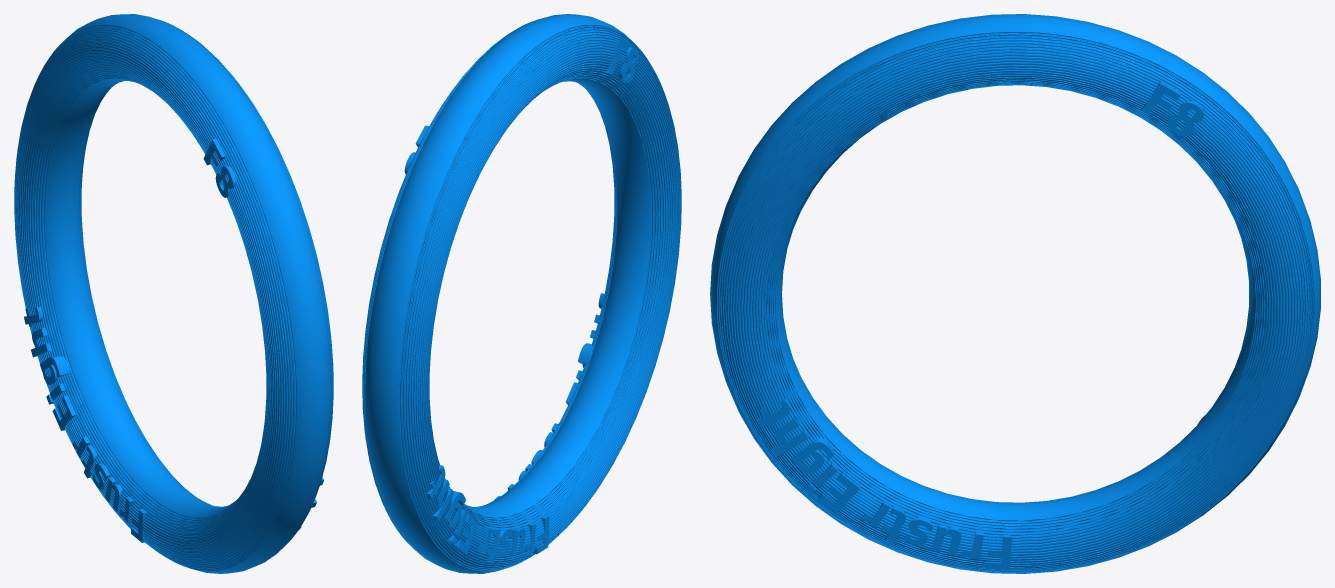
3 views of the same model, side by side, from view 1: azimuth 30°, elevation 25°; view 2: azimuth 150°, elevation 25°; view 3: azimuth 270°, elevation 25° (orthographic). The views are drawn at different scales.
Visible parts, largest first — view 1: Bryła2; view 2: Bryła2; view 3: Bryła2.
Part boxes in pixels (x1,y1,x2,y2): Bryła2: (14,14,333,573); Bryła2: (362,14,681,573); Bryła2: (710,14,1320,573).
Bounding box in the file's own units: 0.02 × 0.1699 × 0.1699.
1 material, 1 textured.
